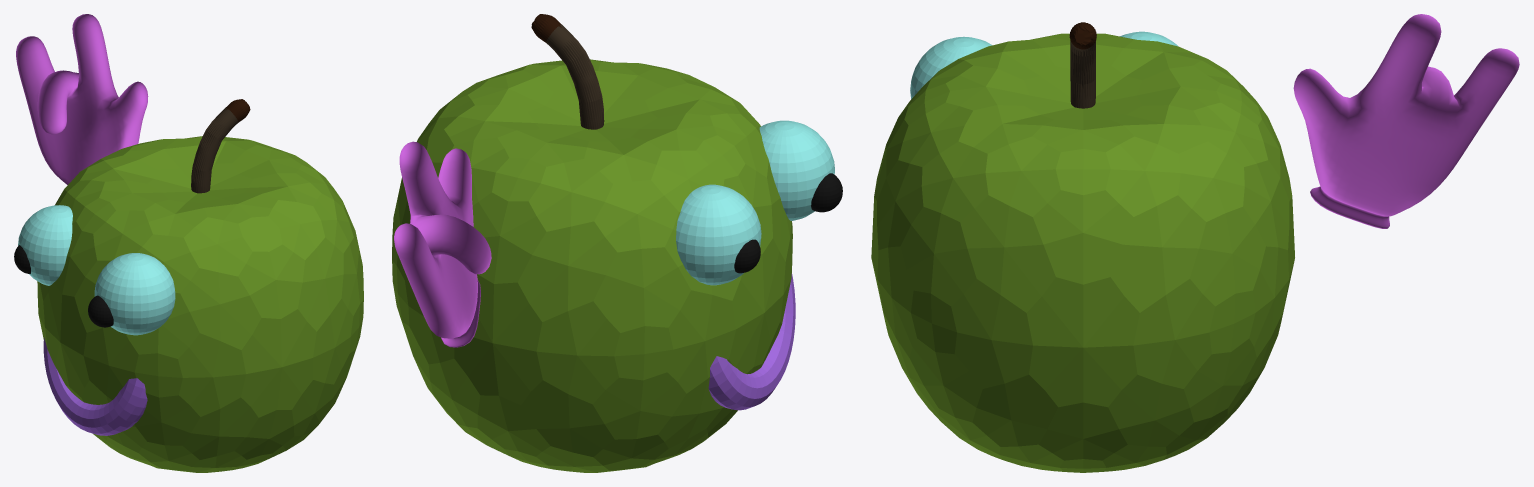
The model's file is fmanzanab.glb.
The picture shows the model from 3 angles, left to right: view 1: azimuth 30°, elevation 25°; view 2: azimuth 150°, elevation 25°; view 3: azimuth 270°, elevation 25°; orthographic projection. The views are drawn at different scales.
Parts seen in each view (by area): view 1: Cube.002, Plane004, Sphere, Torus, Sphere.001, Sphere.003; view 2: Cube.002, Plane004, Sphere.001, Sphere, Torus, Sphere.003, Sphere.002; view 3: Cube.002, Plane004, Sphere.
Part boxes in pixels (x1,y1,x2,y2): Cube.002: (37, 99, 363, 472); Plane004: (16, 14, 148, 184); Sphere: (94, 253, 175, 335); Torus: (43, 337, 147, 435); Sphere.001: (18, 205, 72, 285); Sphere.003: (88, 295, 113, 327); Cube.002: (392, 14, 792, 472); Plane004: (394, 141, 491, 347); Sphere.001: (676, 184, 761, 285); Sphere: (759, 120, 834, 220); Torus: (708, 273, 795, 410); Sphere.003: (811, 173, 842, 212); Sphere.002: (734, 239, 760, 273); Cube.002: (871, 22, 1294, 472); Plane004: (1293, 14, 1519, 228); Sphere: (910, 36, 992, 99).
Size of the model in its own units: 0.8648 by 0.9281 by 1.24.
